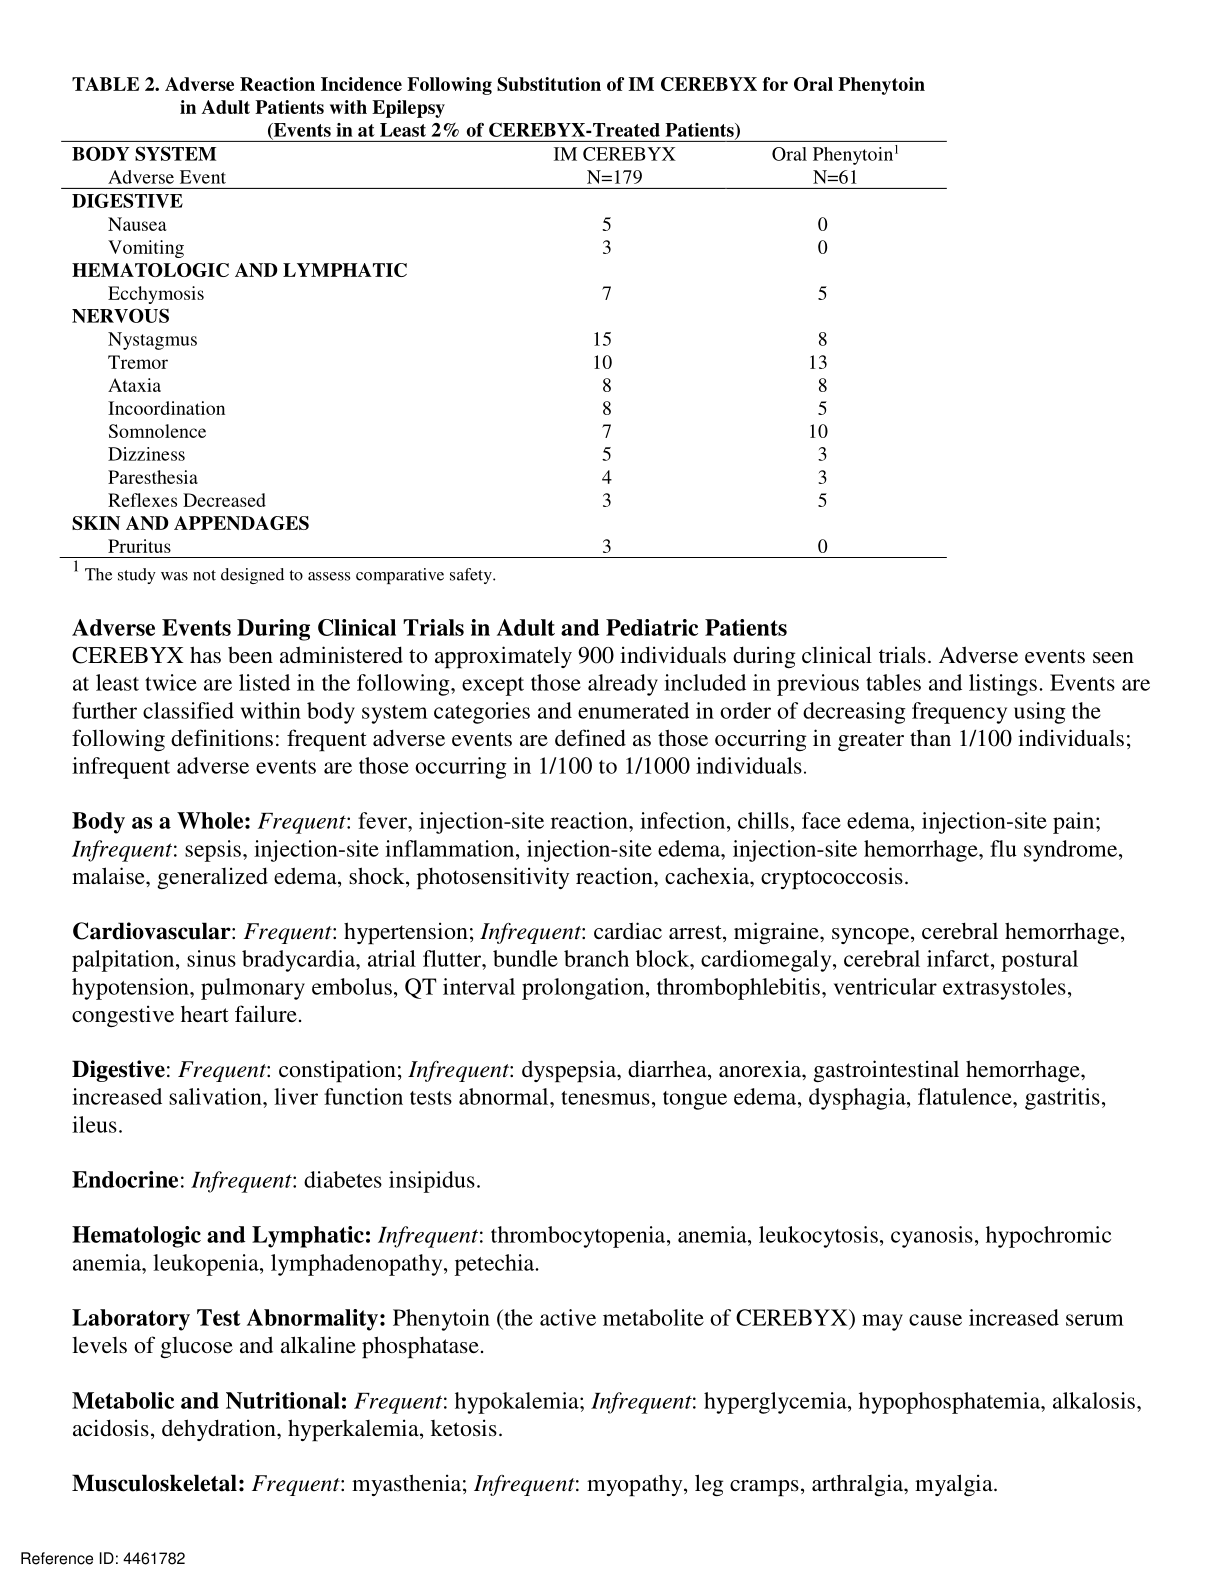partial_lined: (60, 139, 945, 561)
